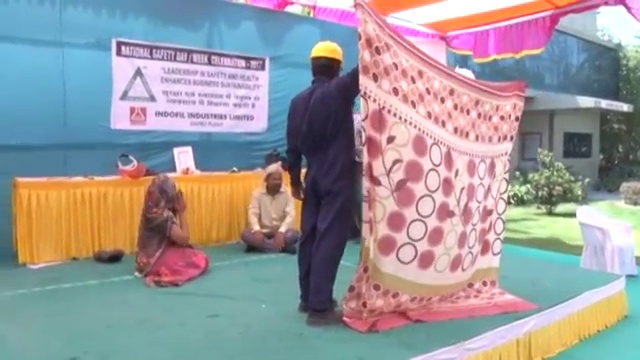helmet: (309, 39, 345, 64)
helmet_off: (147, 174, 179, 210), (263, 165, 284, 193)
helmet_on: (308, 40, 346, 76)
person: (282, 38, 368, 326), (134, 172, 210, 288), (239, 162, 302, 258)
